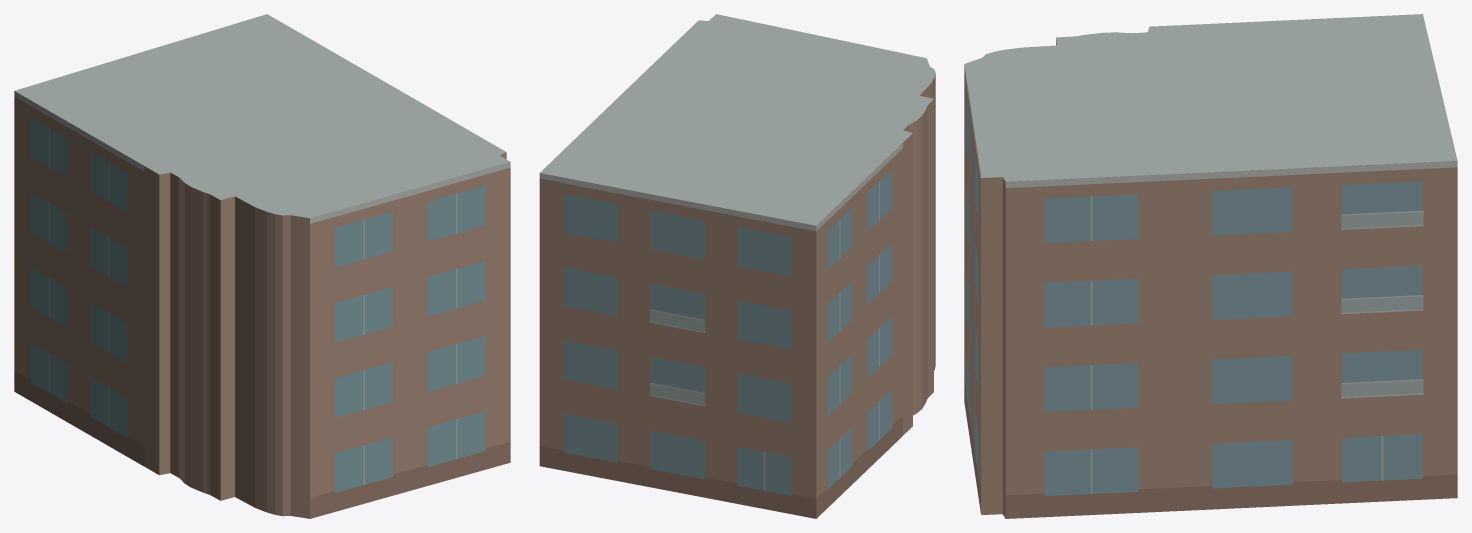
Rendered from survey-upis-32498410.glb.
3 views of the same model, side by side, from view 1: azimuth 30°, elevation 25°; view 2: azimuth 150°, elevation 25°; view 3: azimuth 270°, elevation 25° (orthographic). The views are drawn at different scales.
Parts seen in each view (by area): view 1: survey-upis-32498410.tmp; view 2: survey-upis-32498410.tmp; view 3: survey-upis-32498410.tmp.
Boxes of the visible parts, box(x1,y1,x2,y2) form: survey-upis-32498410.tmp: box(14, 14, 510, 518); survey-upis-32498410.tmp: box(539, 14, 935, 518); survey-upis-32498410.tmp: box(964, 14, 1457, 518).
Bounding box in the file's own units: 13.66 × 12.8 × 16.98.
